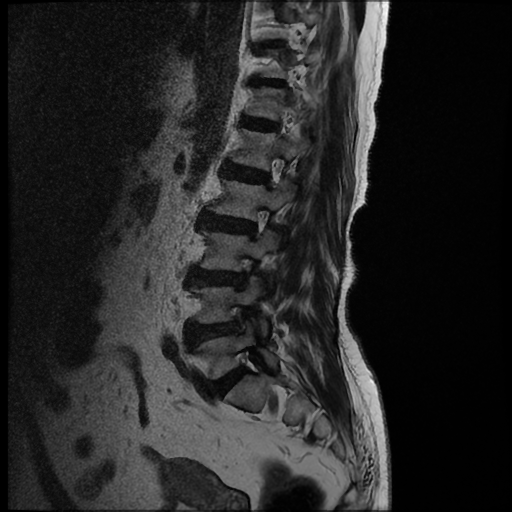LFS0: (242, 198, 277, 249), (257, 146, 291, 197)
LFS3: (227, 251, 266, 297), (222, 299, 257, 344)
